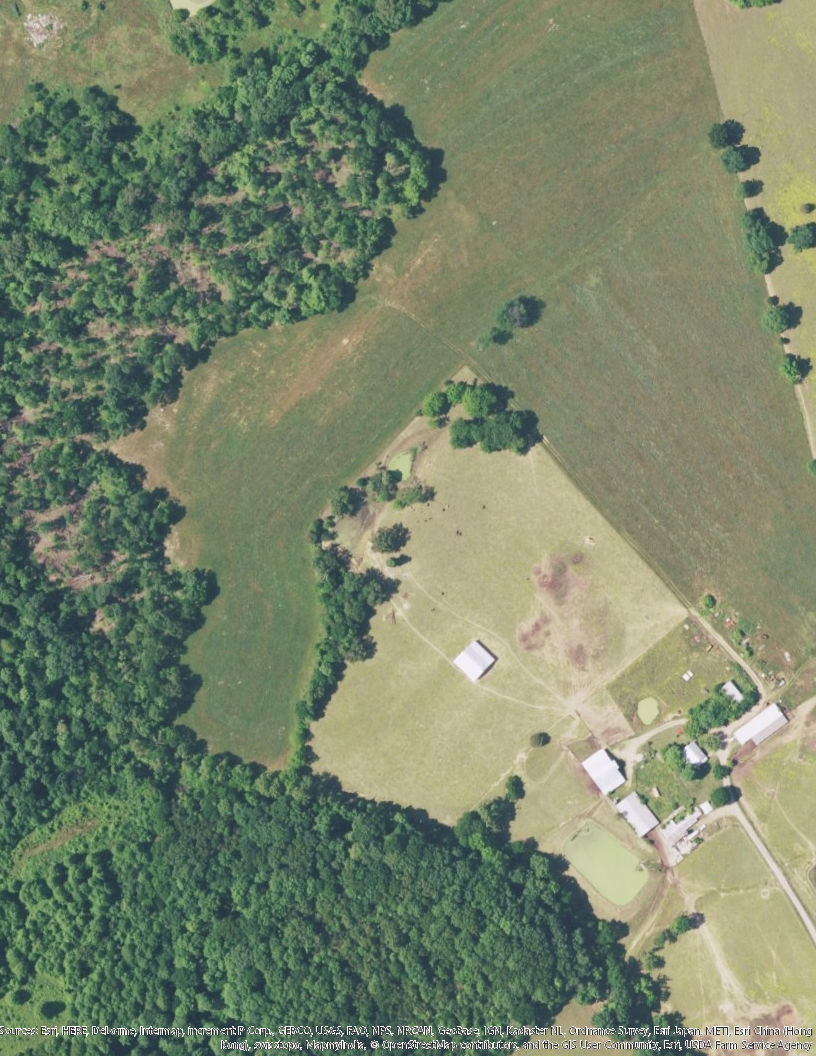cafo: (730, 701, 789, 756)
